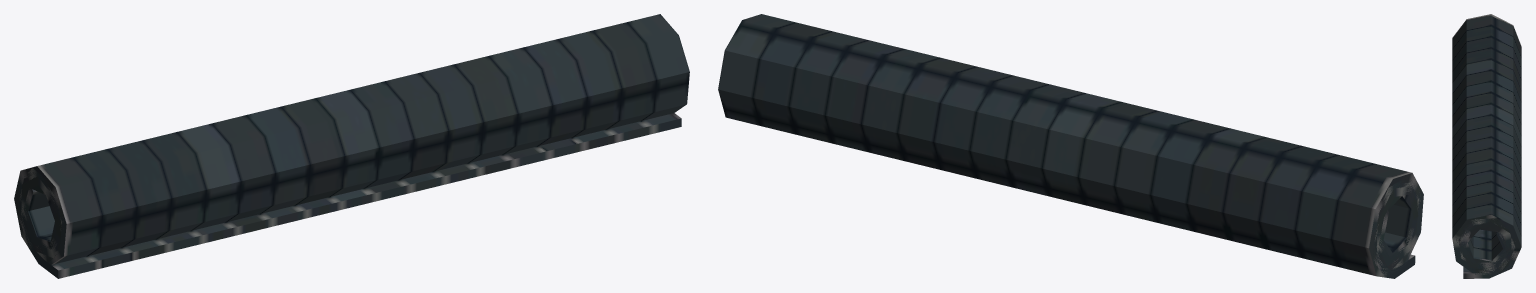
The model's file is roll_up.fbx.
3 views of the same model, side by side, from view 1: azimuth 30°, elevation 25°; view 2: azimuth 150°, elevation 25°; view 3: azimuth 270°, elevation 25° (orthographic). The views are drawn at different scales.
Parts seen in each view (by area): view 1: Plane; view 2: Plane; view 3: Plane.
Boxes of the visible parts, left/top/right/bottom form: Plane: left=14, top=14, right=689, bottom=278; Plane: left=718, top=14, right=1423, bottom=278; Plane: left=1452, top=14, right=1521, bottom=278.
Size of the model in its own units: 909 by 136 by 133.
